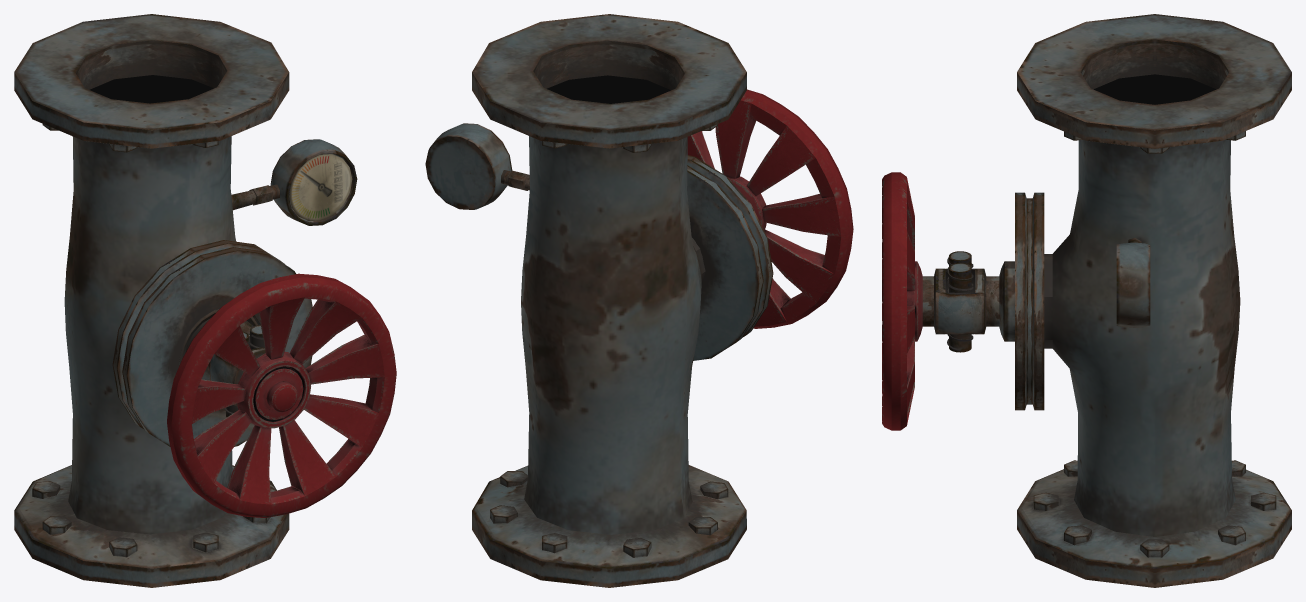
The model's file is pipe_pipe08.fbx.
3 views of the same model, side by side, from view 1: azimuth 30°, elevation 25°; view 2: azimuth 150°, elevation 25°; view 3: azimuth 270°, elevation 25° (orthographic).
Visible parts, largest first — view 1: modular_industrial_pipes_01_group02__modular_industrial_pipe; view 2: modular_industrial_pipes_01_group02__modular_industrial_pipe; view 3: modular_industrial_pipes_01_group02__modular_industrial_pipe.
Part boxes in pixels (x1,y1,x2,y2): modular_industrial_pipes_01_group02__modular_industrial_pipe: [14, 14, 396, 587]; modular_industrial_pipes_01_group02__modular_industrial_pipe: [425, 14, 853, 587]; modular_industrial_pipes_01_group02__modular_industrial_pipe: [882, 14, 1291, 587].
Size of the model in its own units: 0.2663 by 0.3788 by 0.3076.
